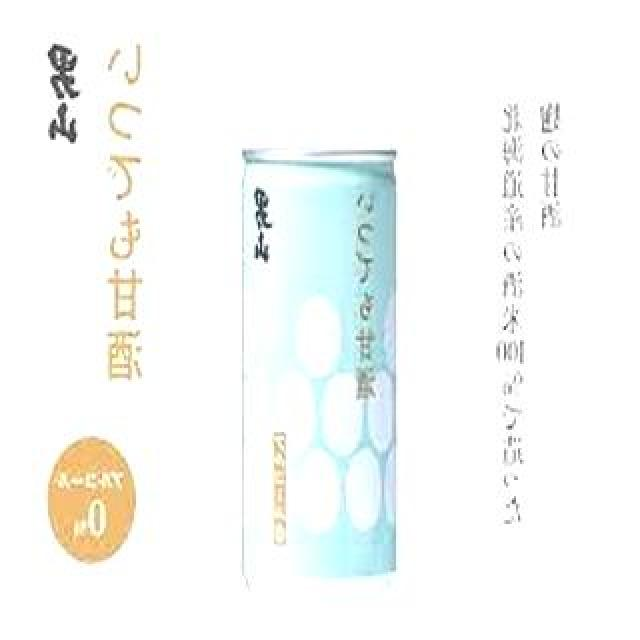Can: (224, 139, 418, 603)
